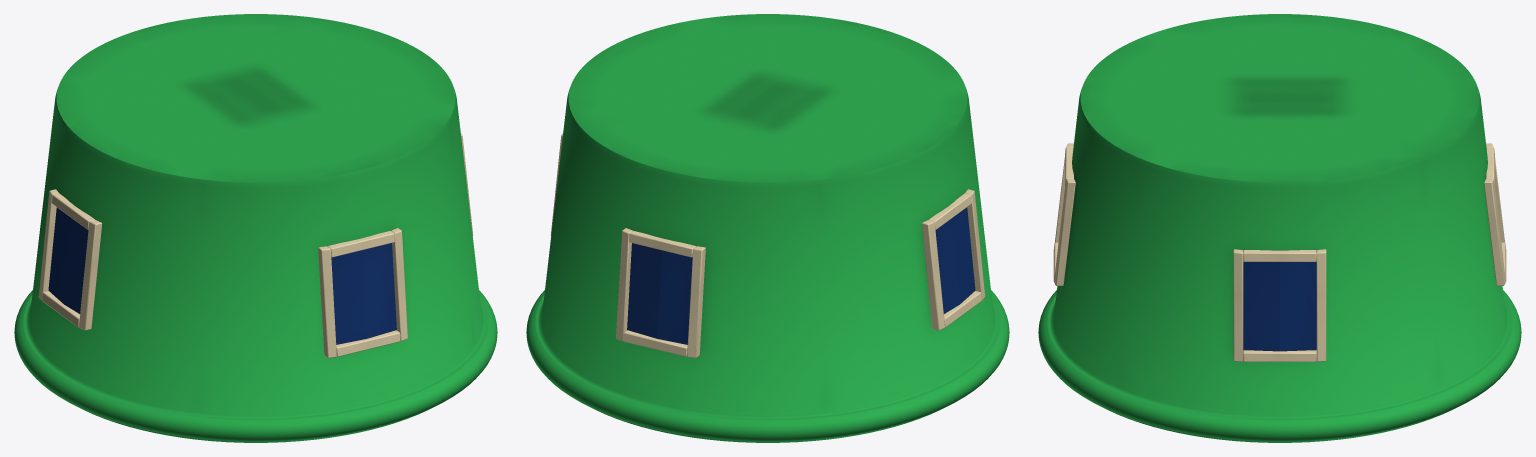
File: 2-inverted-cup-2.fbx
The picture shows the model from 3 angles, left to right: view 1: azimuth 30°, elevation 25°; view 2: azimuth 150°, elevation 25°; view 3: azimuth 270°, elevation 25°; orthographic projection.
Parts seen in each view (by area): view 1: inverted-cup-2; view 2: inverted-cup-2; view 3: inverted-cup-2.
Part boxes in pixels (bbox=[...]): inverted-cup-2: bbox=[14, 14, 497, 442]; inverted-cup-2: bbox=[526, 14, 1009, 442]; inverted-cup-2: bbox=[1038, 14, 1521, 442].
Size of the model in its own units: 8840 by 5000 by 8840.
1 material, 1 textured.
